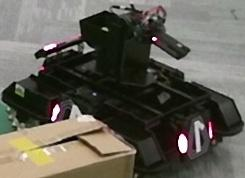armor_1: (177, 121, 213, 153)
front_1: (186, 115, 211, 160)
